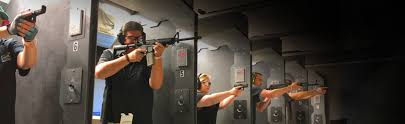gun: (13, 4, 48, 40), (229, 80, 255, 99)
